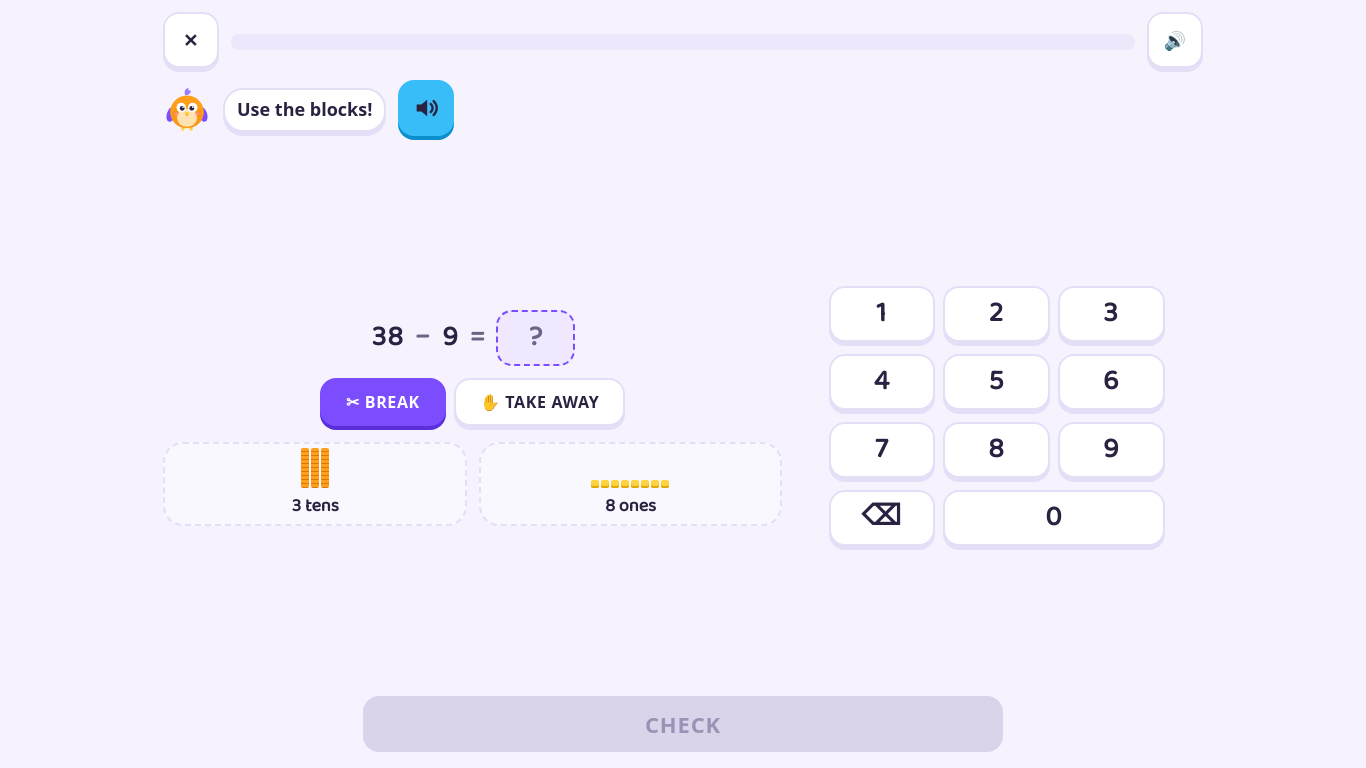
Test: LessonScreen: not-yet flow (AC5) › shows the targeted hint with the kid’s numbers, SHOW ME, and a clean retry
The width and height of the screenshot is (1366, 768).
Click the button "3" at (1111, 314), box [1058, 286, 1165, 342]
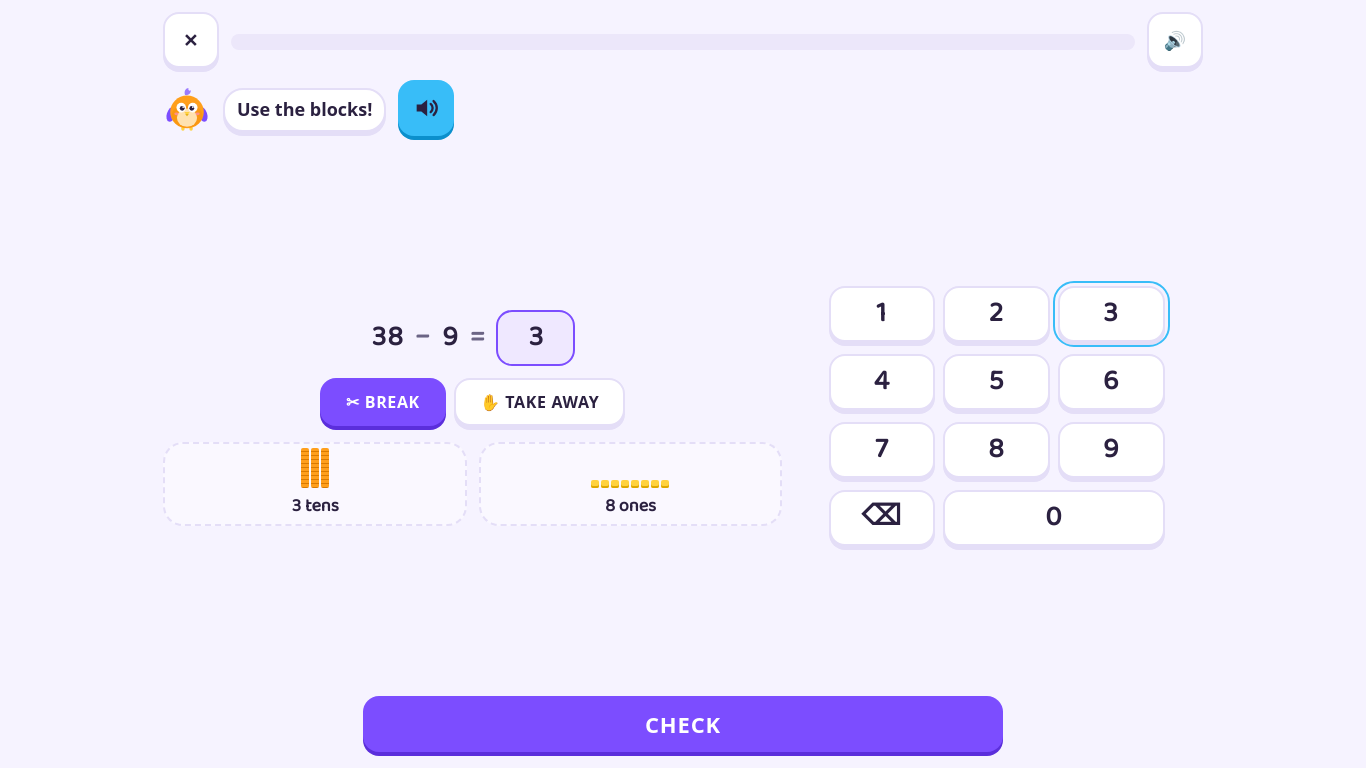
Click the button "1" at (882, 314), box [829, 286, 935, 342]
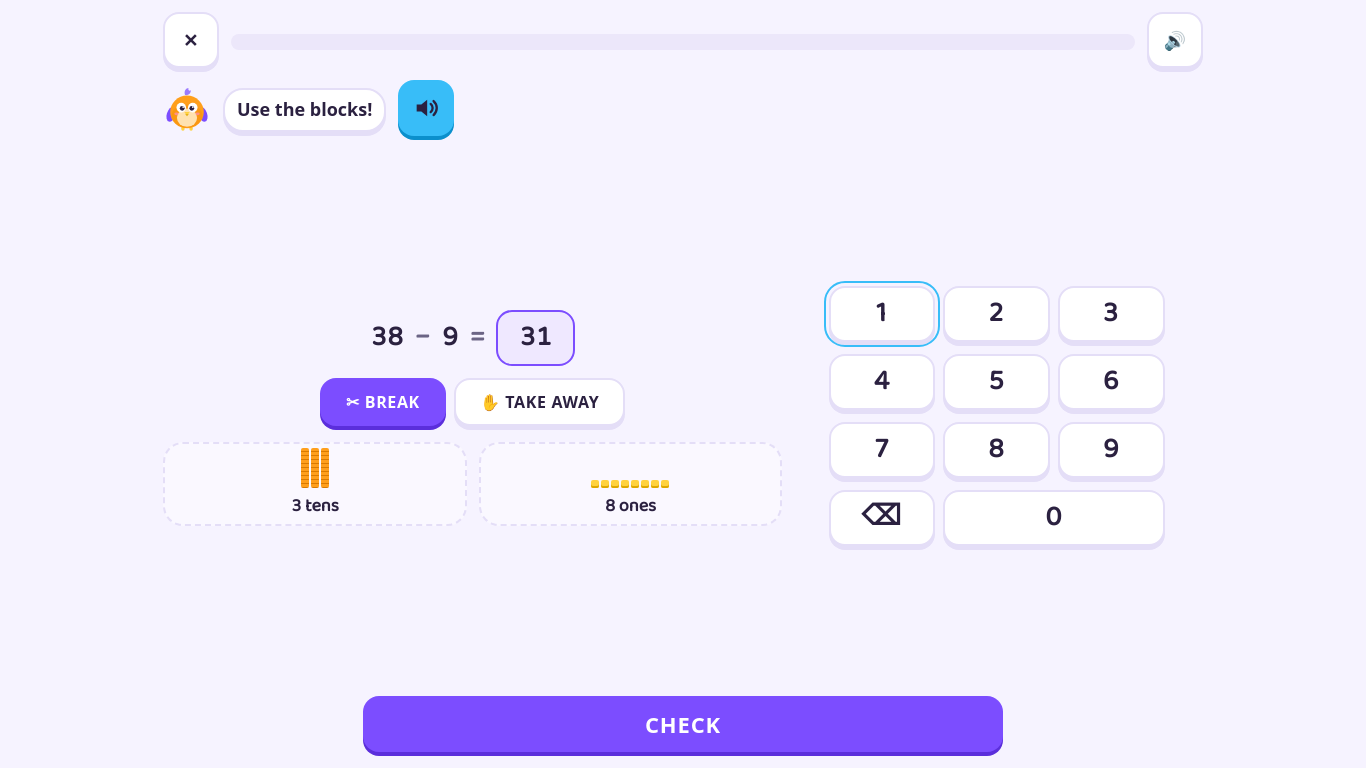
Click the button "Check" at (683, 724), box [363, 696, 1003, 752]
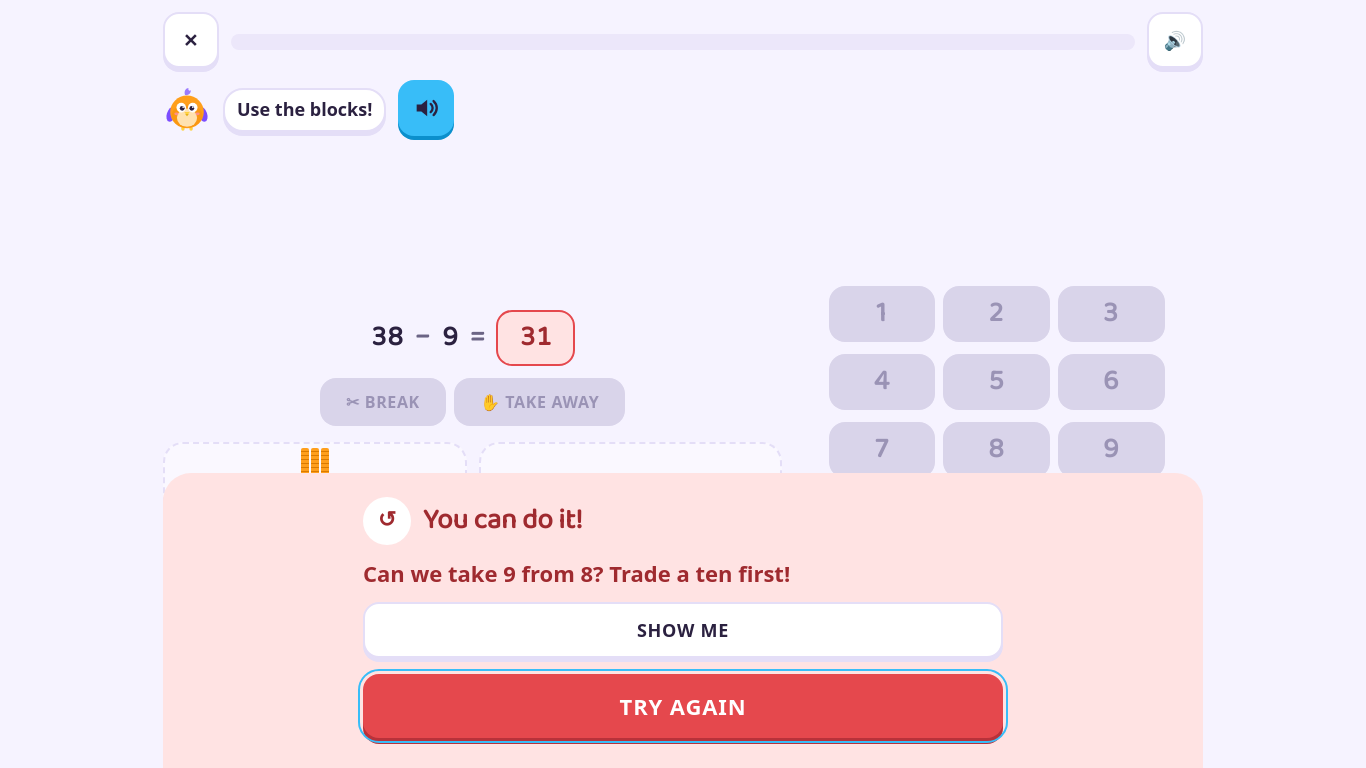
Expected: the element with test id "feedback" reads "↺ You can do it! Can we take 9 from 8? Trade a ten first! Show me Try again", [363, 558, 790, 588]
Click the button "Show me" at (683, 630), box [363, 602, 1003, 658]
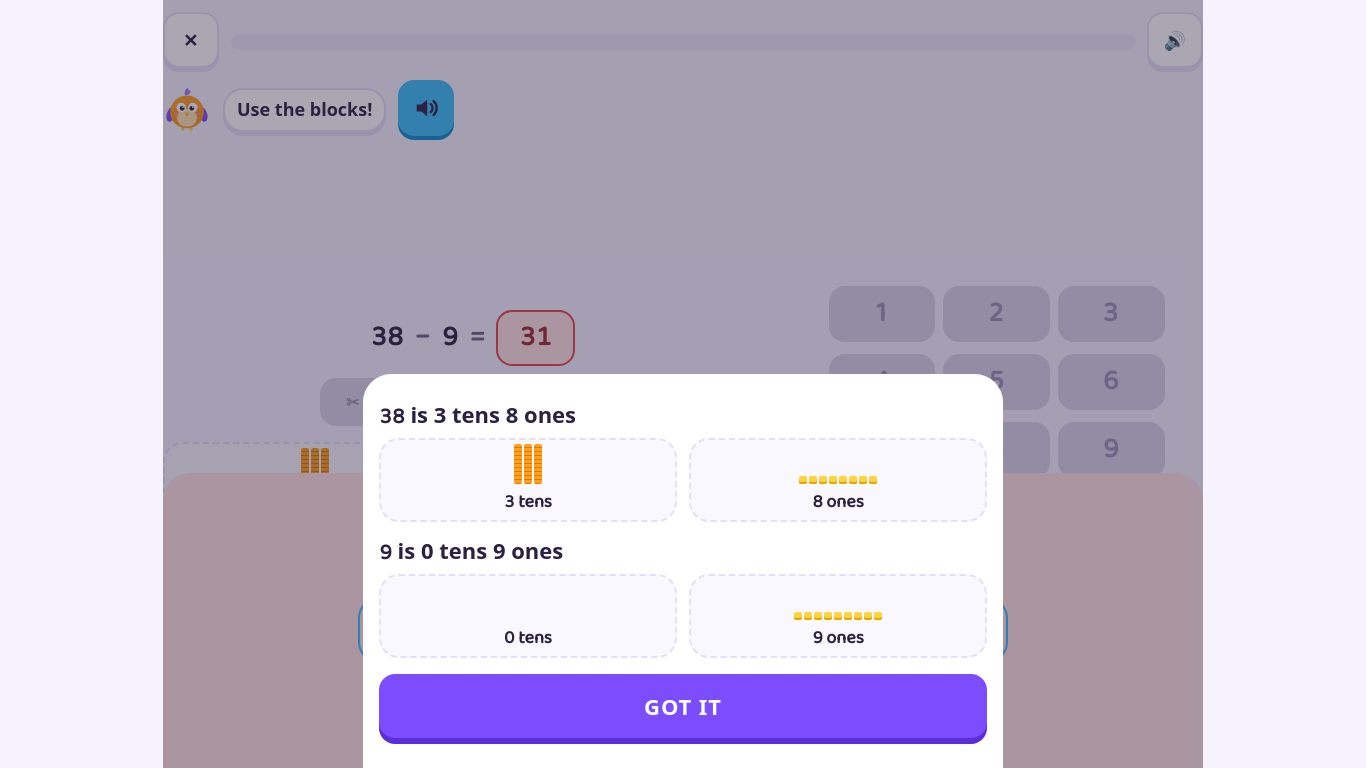
Click the button "Got it" at (683, 706), box [379, 674, 987, 738]
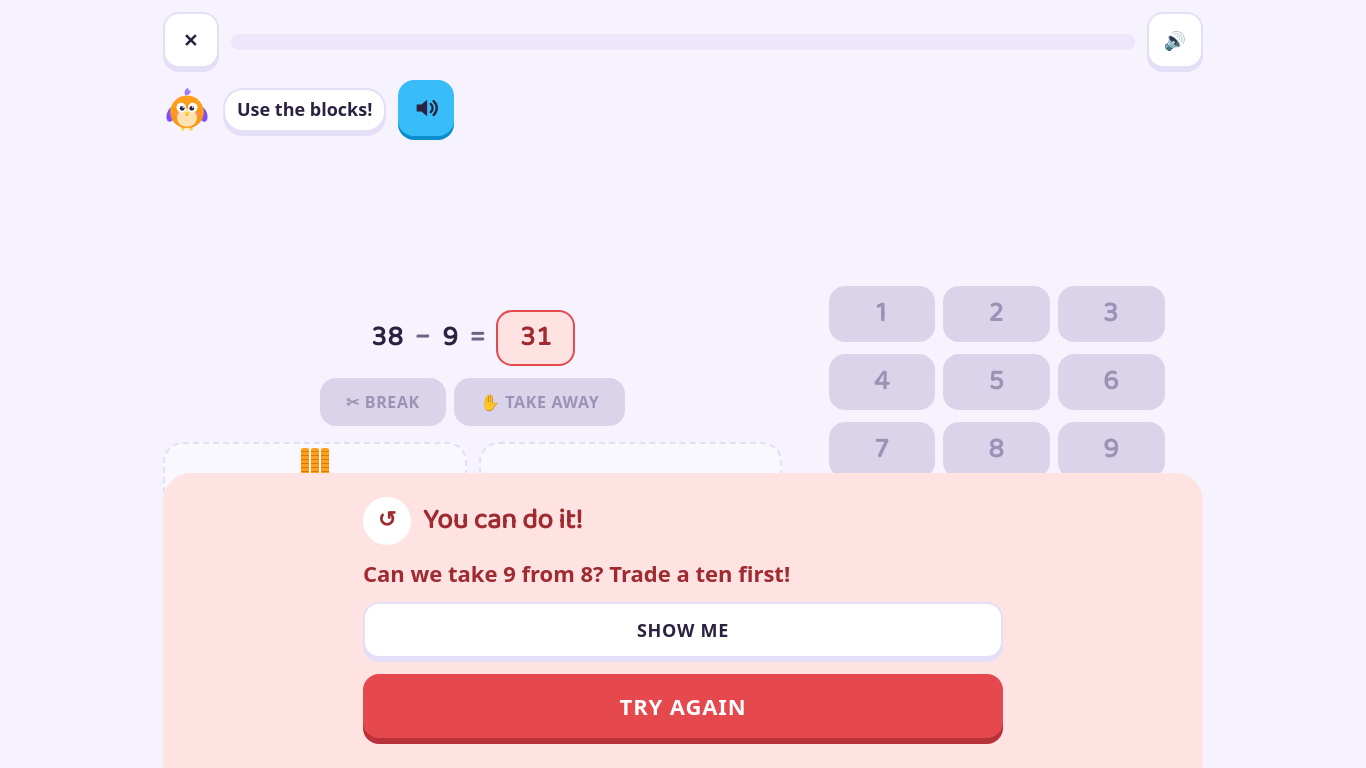
Click the button "Try again" at (683, 706), box [363, 674, 1003, 738]
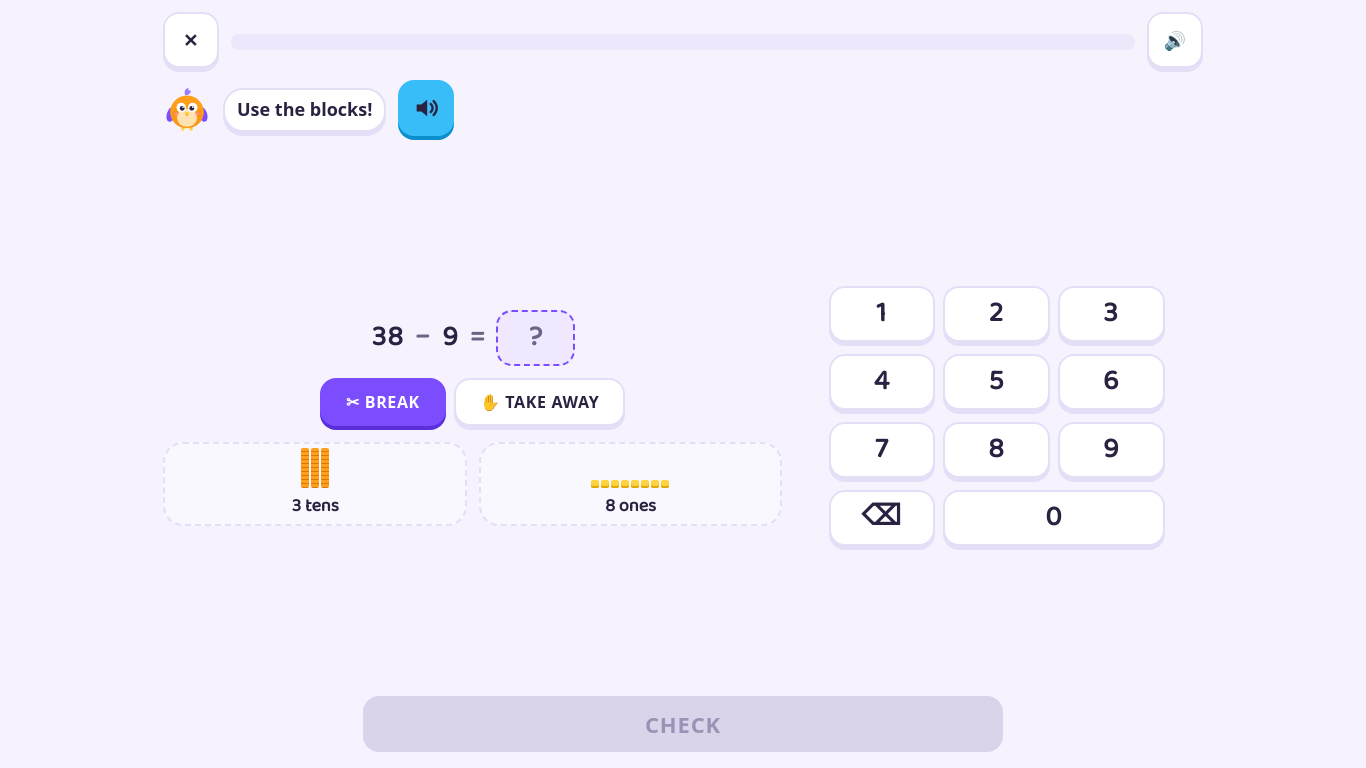
Expected: the element with test id "feedback" is gone
Expected: the button "Check" is disabled, [363, 696, 1003, 752]
